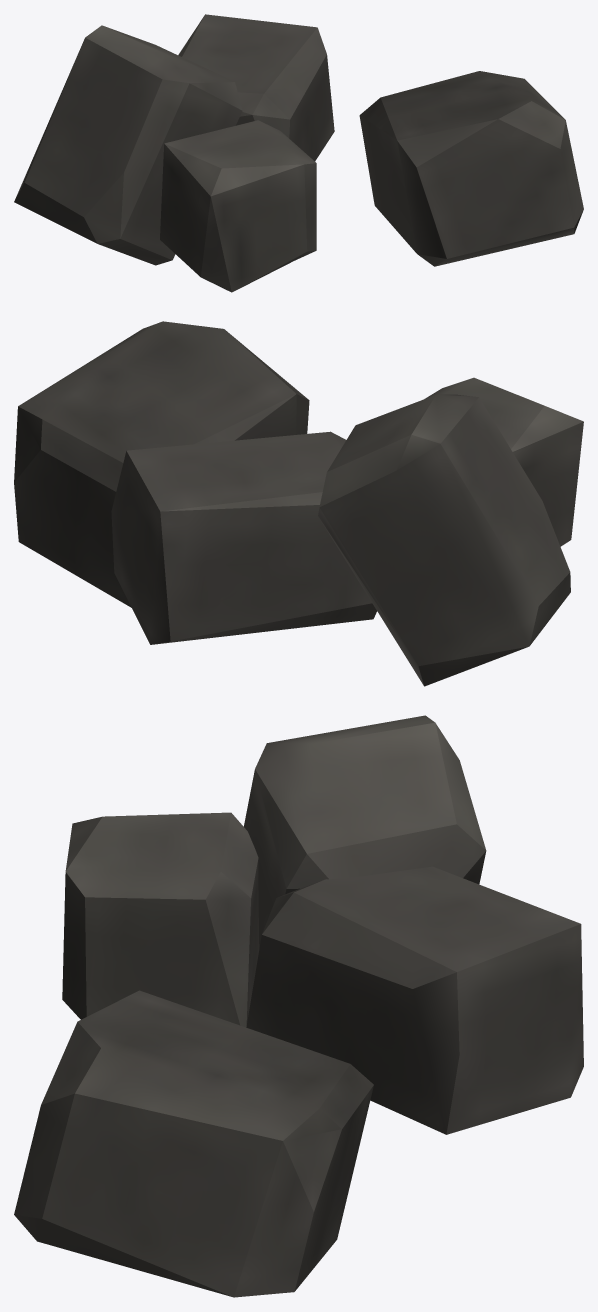
File: Brickwall_debris2.fbx
The picture shows the model from 3 angles, top to bottom: view 1: azimuth 30°, elevation 25°; view 2: azimuth 150°, elevation 25°; view 3: azimuth 270°, elevation 25°; orthographic projection. The views are drawn at different scales.
Visible parts, largest first — view 1: Brickwall_debris2; view 2: Brickwall_debris2; view 3: Brickwall_debris2.
Boxes of the visible parts, x1=… form: Brickwall_debris2: x1=14, y1=14, x2=583, y2=292; Brickwall_debris2: x1=14, y1=321, x2=583, y2=686; Brickwall_debris2: x1=14, y1=715, x2=583, y2=1297.
Bounding box in the file's own units: 157 × 73.39 × 113.
1 material, 1 textured.
